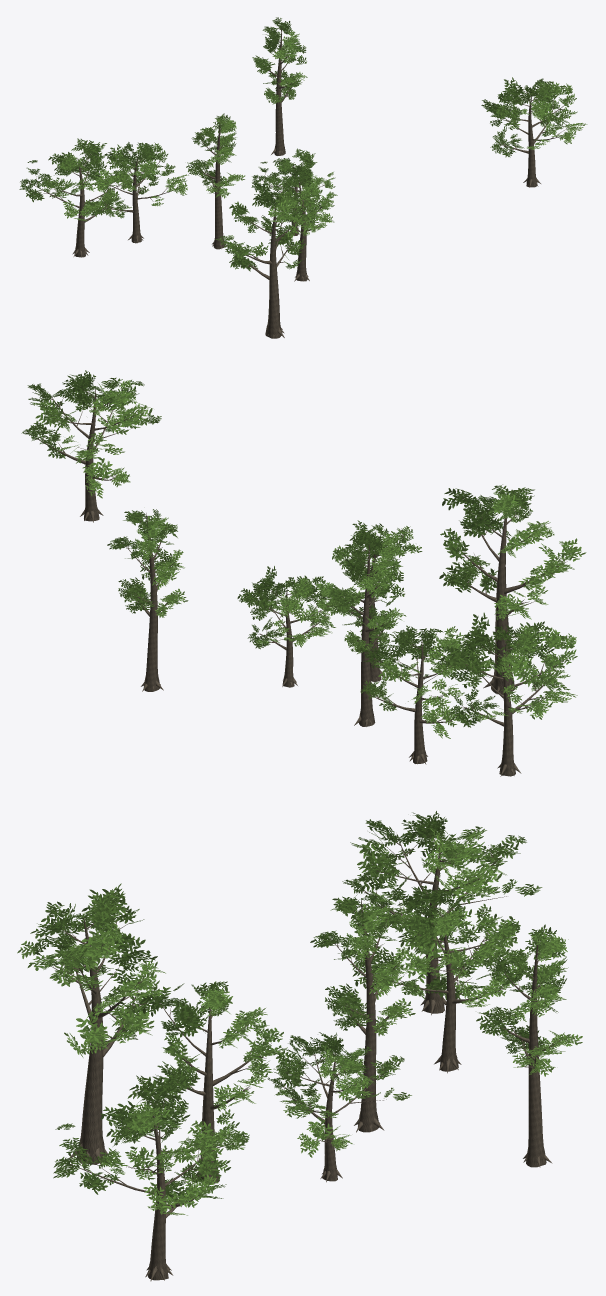
File: Canopy_09_16.glb
3 renders of one model, top to bottom at view 1: azimuth 30°, elevation 25°; view 2: azimuth 150°, elevation 25°; view 3: azimuth 270°, elevation 25°, orthographic. The views are drawn at different scales.
Visible parts, largest first — view 1: Canopy_09_16; view 2: Canopy_09_16; view 3: Canopy_09_16.
Boxes of the visible parts, bbox=[...] form: Canopy_09_16: bbox=[19, 17, 587, 338]; Canopy_09_16: bbox=[21, 370, 586, 776]; Canopy_09_16: bbox=[17, 811, 582, 1281].
Size of the model in its own units: 60.19 by 23.26 by 35.21.
2 materials, 2 textured.
